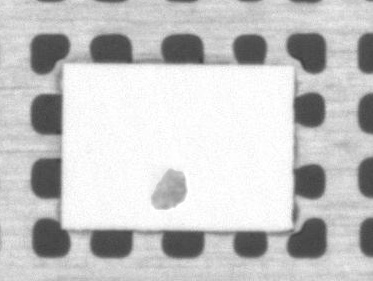DIE_INK: (149, 167, 191, 214)
